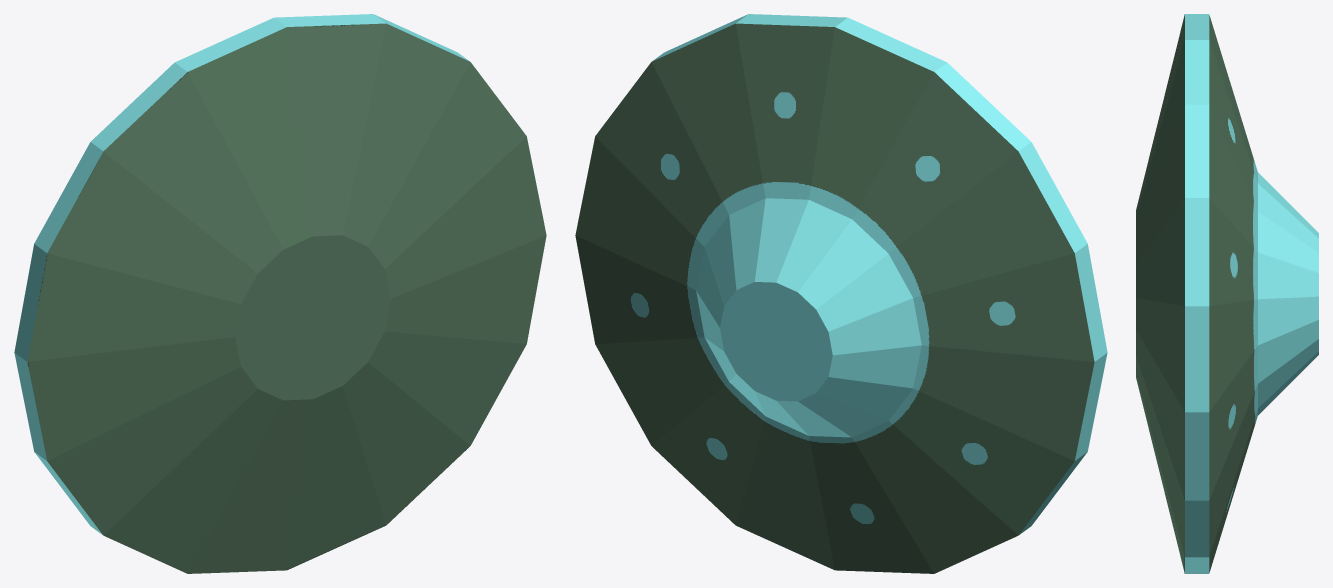
File: enemy.fbx
The picture shows the model from 3 angles, left to right: view 1: azimuth 30°, elevation 25°; view 2: azimuth 150°, elevation 25°; view 3: azimuth 270°, elevation 25°; orthographic projection. The views are drawn at different scales.
Parts seen in each view (by area): view 1: Cylinder; view 2: Cylinder; view 3: Cylinder.
Part boxes in pixels (x1,y1,x2,y2): Cylinder: (14, 14, 546, 573); Cylinder: (575, 14, 1107, 573); Cylinder: (1136, 14, 1318, 573).
Size of the model in its own units: 4.6 by 4.6 by 1.5.
